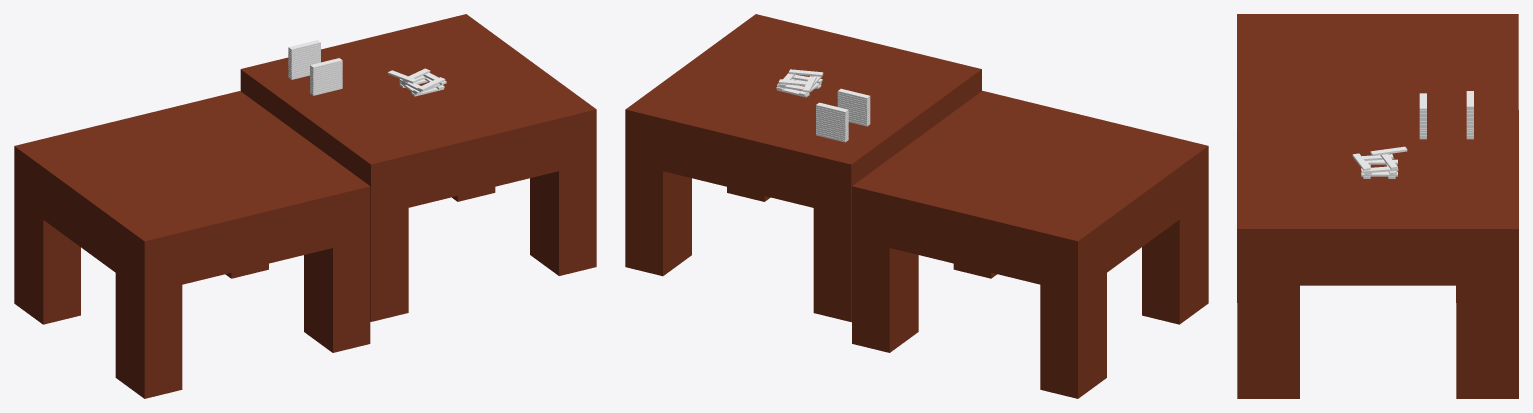
Rendered from keva_spiral_10.dae.
3 renders of one model, left to right at view 1: azimuth 30°, elevation 25°; view 2: azimuth 150°, elevation 25°; view 3: azimuth 270°, elevation 25°, orthographic. The views are drawn at different scales.
Visible parts, largest first — view 1: base (×7); view 2: base (×7); view 3: base (×4).
Part boxes in pixels (x1=…): base (×7): x1=14, y1=14, x2=596, y2=398; base (×7): x1=625, y1=14, x2=1208, y2=398; base (×4): x1=1237, y1=14, x2=1518, y2=398.
Size of the model in its own units: 1.8 by 0.9009 by 0.7986.
